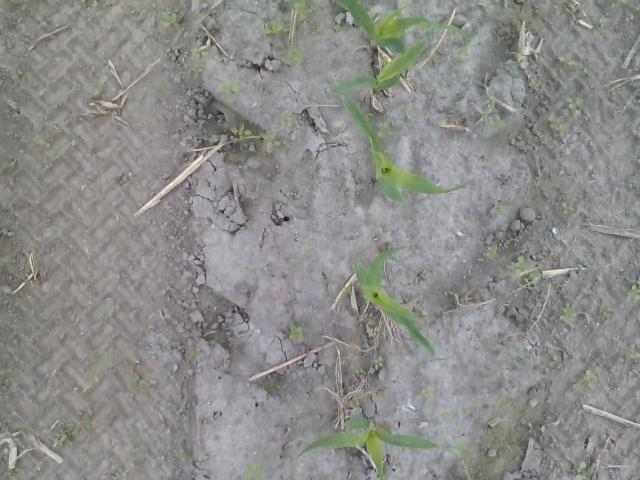Maize: (340, 92, 477, 206), (294, 412, 441, 480), (355, 242, 438, 361), (338, 0, 463, 56), (328, 40, 426, 96)
Weeds: (48, 408, 92, 447), (511, 255, 537, 287), (242, 453, 266, 480), (548, 112, 570, 137), (576, 368, 597, 392), (214, 82, 240, 101), (261, 130, 281, 154), (127, 378, 156, 394), (564, 96, 584, 118), (487, 201, 511, 219), (280, 110, 304, 128), (192, 48, 208, 72), (266, 18, 290, 34), (558, 303, 578, 322), (158, 10, 179, 28), (230, 123, 252, 140), (376, 119, 394, 139), (627, 274, 640, 301), (84, 367, 97, 393), (452, 439, 468, 460), (286, 322, 304, 340), (286, 0, 308, 14), (287, 46, 304, 64), (0, 366, 15, 386), (482, 243, 498, 259), (478, 0, 496, 14), (188, 343, 202, 360), (481, 92, 495, 109), (574, 461, 586, 480), (40, 136, 56, 150), (406, 100, 416, 122), (488, 118, 507, 129), (470, 392, 482, 409), (494, 398, 512, 409), (373, 355, 386, 370), (598, 303, 608, 321), (126, 7, 146, 16), (239, 262, 256, 272), (528, 78, 541, 91), (351, 362, 364, 375), (372, 390, 386, 402), (456, 46, 470, 58), (608, 0, 624, 10), (178, 449, 190, 462), (421, 386, 432, 400), (348, 398, 363, 408), (490, 426, 500, 440), (94, 87, 106, 98), (561, 54, 574, 64), (422, 264, 432, 276), (271, 452, 280, 464), (364, 110, 374, 120), (7, 471, 18, 480), (342, 287, 353, 296), (226, 63, 237, 72), (368, 327, 377, 337), (629, 350, 640, 358), (334, 24, 344, 32), (559, 462, 569, 468)
